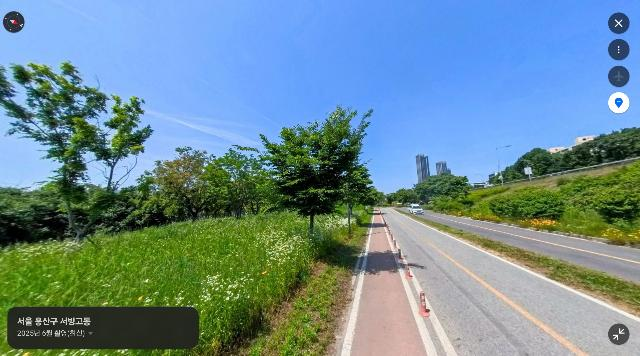other: (0, 59, 110, 244), (231, 102, 374, 235), (88, 94, 156, 197), (139, 145, 223, 222), (202, 143, 284, 220), (341, 152, 382, 236), (408, 171, 474, 210)
